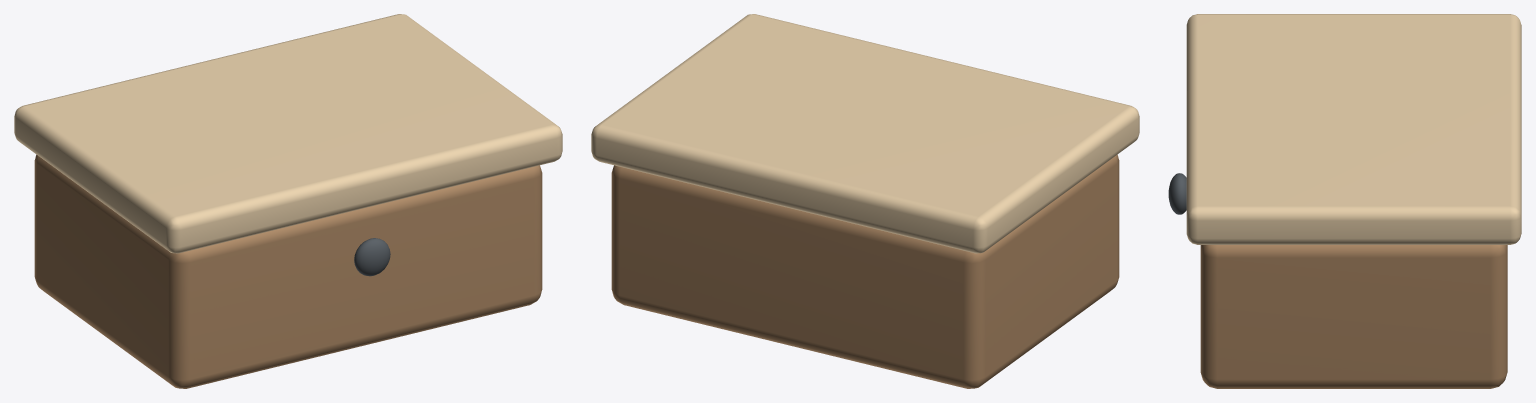
The model's file is atelier-decorative-box.glb.
3 views of the same model, side by side, from view 1: azimuth 30°, elevation 25°; view 2: azimuth 150°, elevation 25°; view 3: azimuth 270°, elevation 25° (orthographic). The views are drawn at different scales.
Visible parts, largest first — view 1: accent.038, legs.141, metal.101; view 2: accent.038, legs.141; view 3: accent.038, legs.141, metal.101.
Part boxes in pixels (bbox=[...]): accent.038: bbox=[14, 14, 562, 253]; legs.141: bbox=[34, 154, 542, 388]; metal.101: bbox=[354, 238, 390, 276]; accent.038: bbox=[591, 14, 1139, 253]; legs.141: bbox=[611, 154, 1119, 388]; accent.038: bbox=[1186, 14, 1521, 244]; legs.141: bbox=[1200, 245, 1507, 388]; metal.101: bbox=[1168, 173, 1186, 214].
Bounding box in the file's own units: 0.34 × 0.15 × 0.253.
